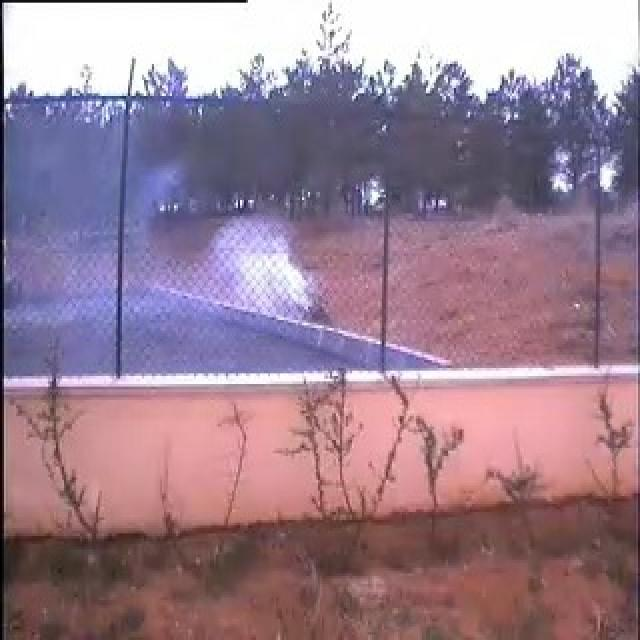smoke: (116, 158, 325, 372)
